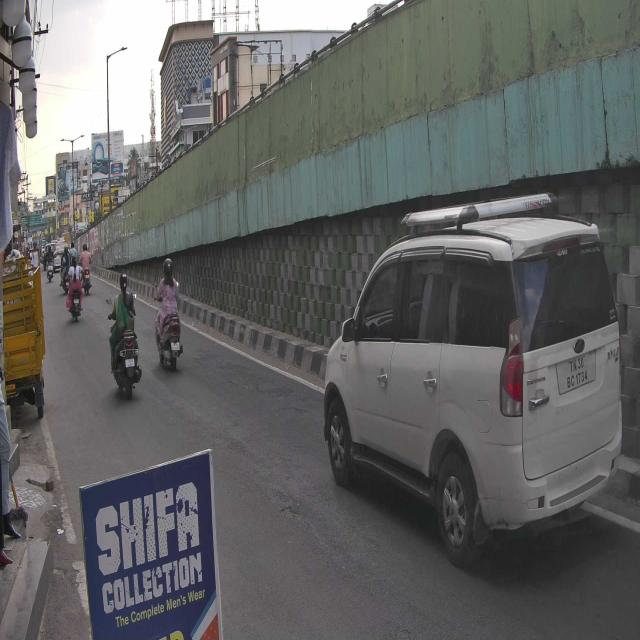single_rider: (105, 271, 143, 402), (152, 255, 185, 374)
